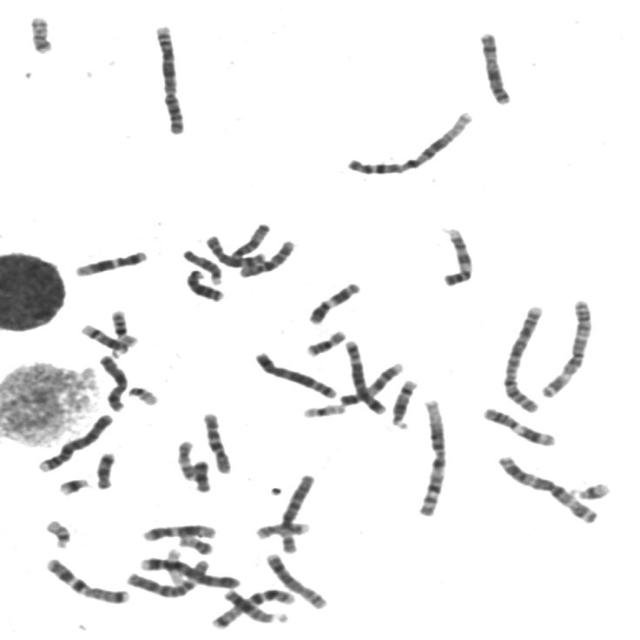A1: (341, 106, 477, 178), (413, 394, 451, 518)
A2: (498, 300, 549, 414), (150, 19, 190, 136)
A3: (493, 449, 603, 525), (538, 294, 596, 398)
B4: (35, 408, 116, 473), (135, 552, 245, 590)
B5: (250, 347, 341, 400), (341, 336, 390, 416)
C10: (235, 234, 298, 279), (199, 406, 236, 475)
C11: (479, 402, 560, 448), (305, 277, 365, 326)
C12: (70, 245, 151, 278), (139, 519, 221, 542)
C6: (122, 555, 214, 599), (276, 468, 320, 555)
C7: (41, 552, 134, 605), (209, 584, 296, 630)
C8: (262, 548, 332, 610), (202, 230, 269, 268)
C9: (336, 357, 407, 406), (438, 222, 477, 288)
D13: (220, 585, 287, 626), (182, 264, 228, 302)
D14: (78, 320, 133, 356), (388, 374, 421, 430)
D15: (226, 218, 274, 264), (179, 244, 227, 286)
E16: (302, 325, 349, 358), (108, 305, 140, 348)
E17: (252, 516, 313, 541), (173, 435, 199, 481)
E18: (92, 447, 120, 490), (190, 456, 214, 494)
F19: (162, 543, 188, 586), (299, 398, 350, 419)
F20: (25, 10, 57, 55), (175, 530, 216, 555)
G21: (567, 476, 614, 502), (55, 472, 92, 497)
G22: (40, 515, 74, 549), (124, 382, 162, 406)
X: (475, 27, 515, 106), (96, 350, 131, 413)
